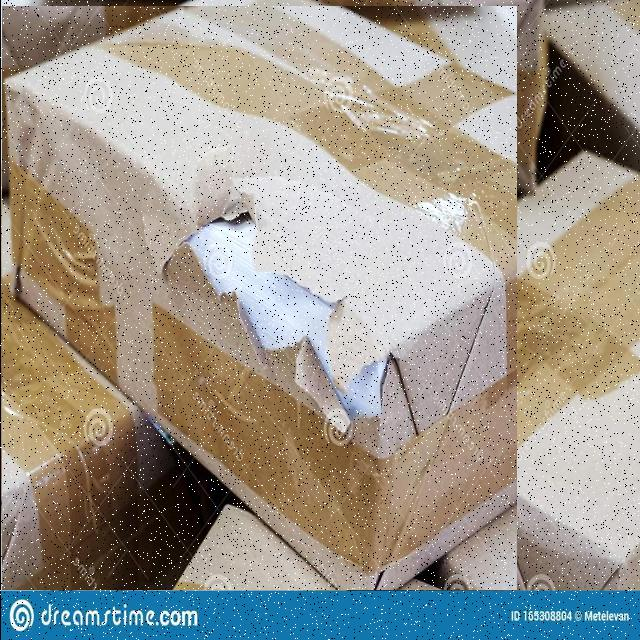defect: (1, 6, 516, 590)
